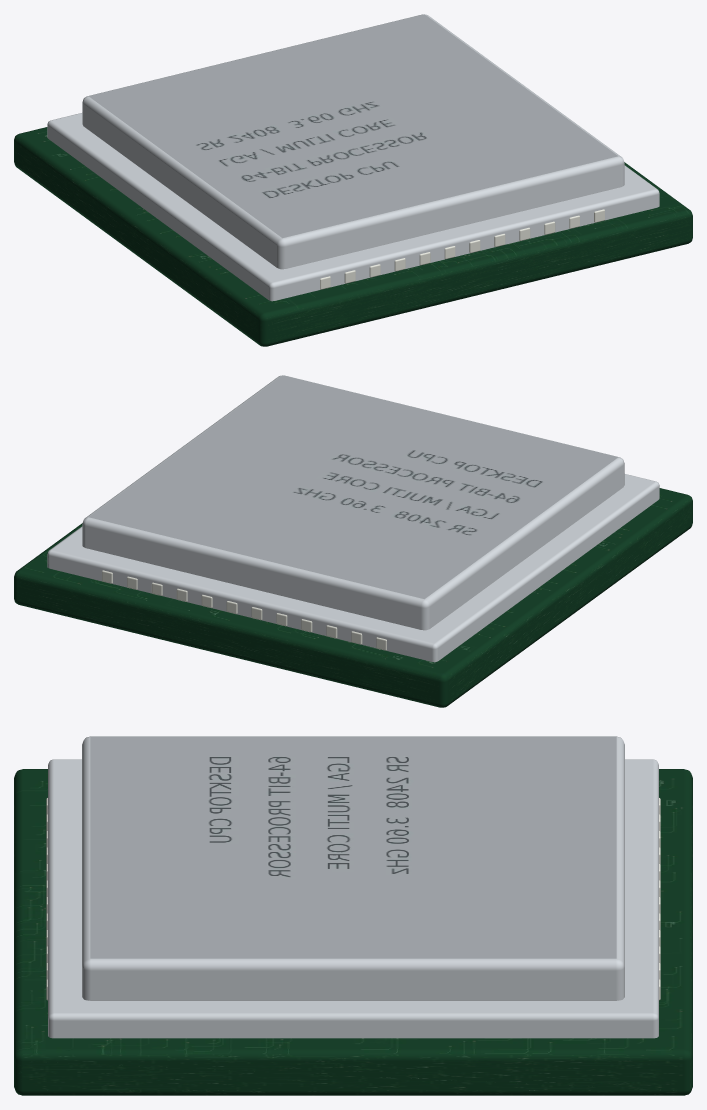
Rendered from cpu-processor.glb.
3 views of the same model, one above another, from view 1: azimuth 30°, elevation 25°; view 2: azimuth 150°, elevation 25°; view 3: azimuth 270°, elevation 25° (orthographic). The views are drawn at different scales.
Parts seen in each view (by area): view 1: Laser etched processor markings, Processor substrate, Heat spreader flange, Integrated heat spreader; view 2: Laser etched processor markings, Processor substrate, Heat spreader flange, Integrated heat spreader; view 3: Laser etched processor markings, Processor substrate, Heat spreader flange, Integrated heat spreader.
Part boxes in pixels (left/top/right/bottom): Laser etched processor markings: left=88, top=14, right=617, bottom=238; Processor substrate: left=14, top=127, right=692, bottom=346; Heat spreader flange: left=47, top=113, right=659, bottom=301; Integrated heat spreader: left=82, top=14, right=624, bottom=269; Laser etched processor markings: left=89, top=375, right=618, bottom=599; Processor substrate: left=14, top=488, right=692, bottom=707; Heat spreader flange: left=47, top=474, right=659, bottom=662; Integrated heat spreader: left=82, top=375, right=624, bottom=630; Laser etched processor markings: left=90, top=736, right=616, bottom=958; Processor substrate: left=14, top=769, right=692, bottom=1095; Heat spreader flange: left=48, top=759, right=658, bottom=1038; Integrated heat spreader: left=82, top=736, right=624, bottom=1000.
Bounding box in the file's own units: 0.04 × 0.00737 × 0.04.
5 materials, 2 textured.
